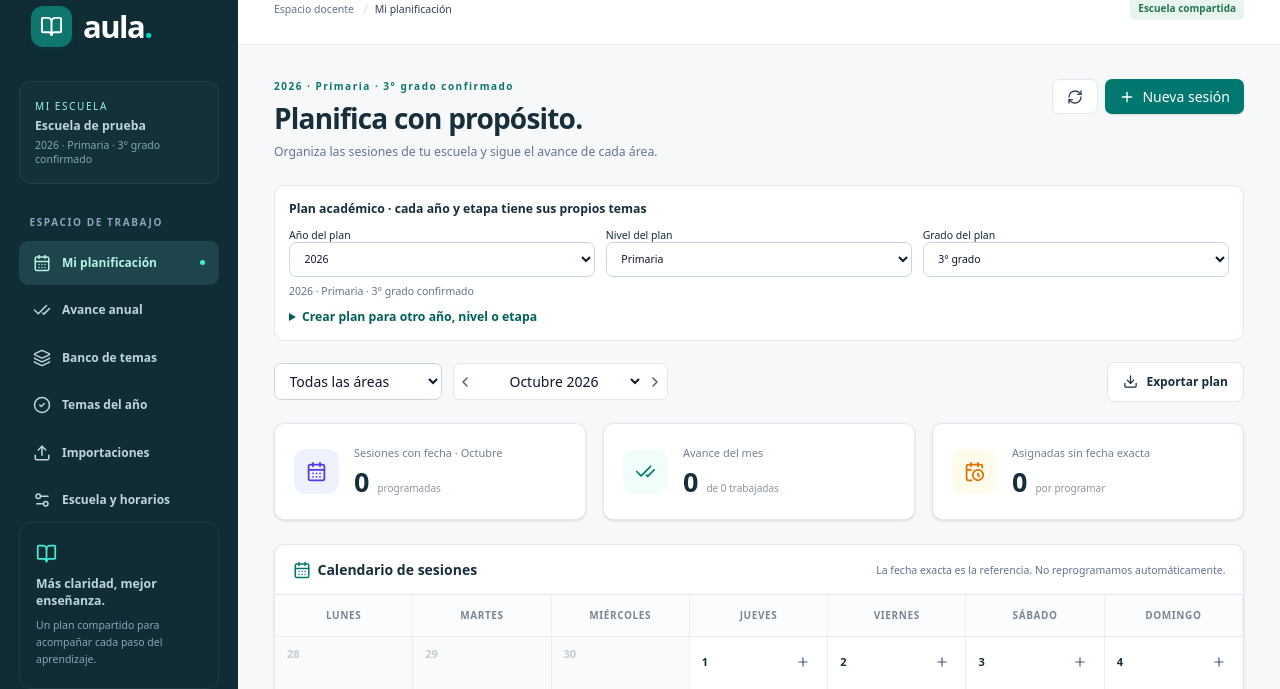
resets detail filters on context switch with reused IDs and rejects a late old catalog
Click the button "Avance anual" at (119, 310), box [19,288,219,332]
(page scrolled)
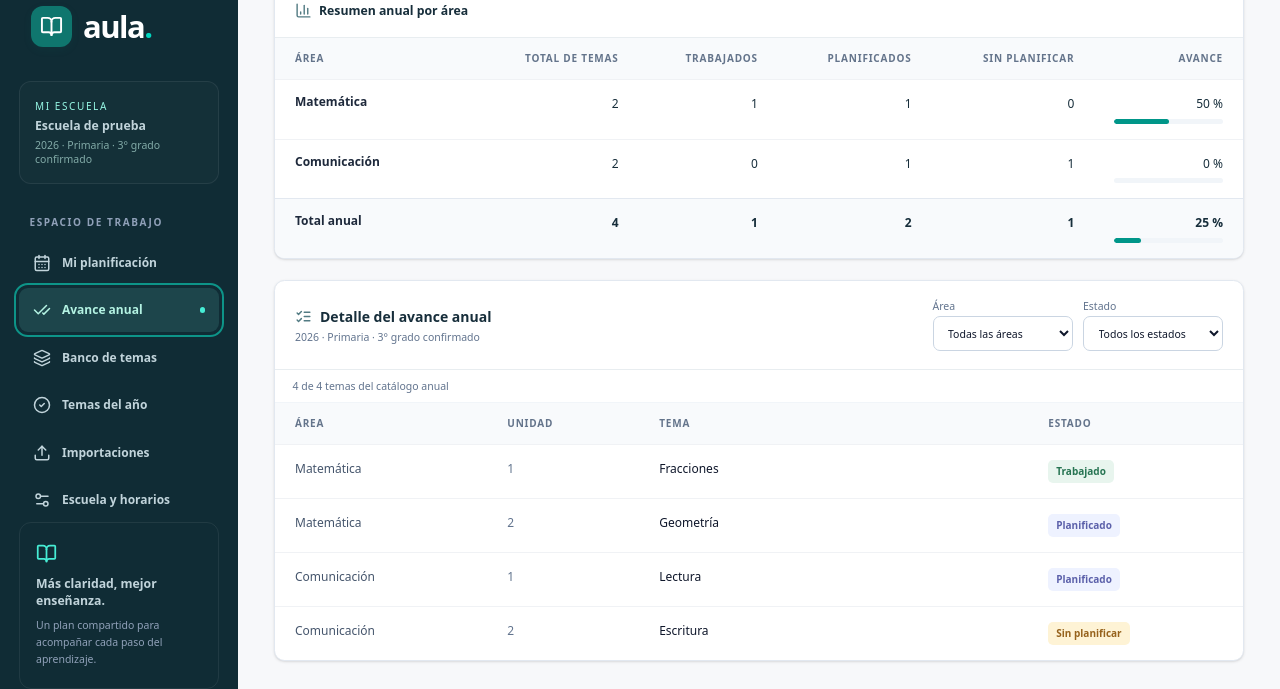
Select "Matemática" in the dropdown labelled "Área" at (1002, 334), box [932,316,1072,352]
(page scrolled)
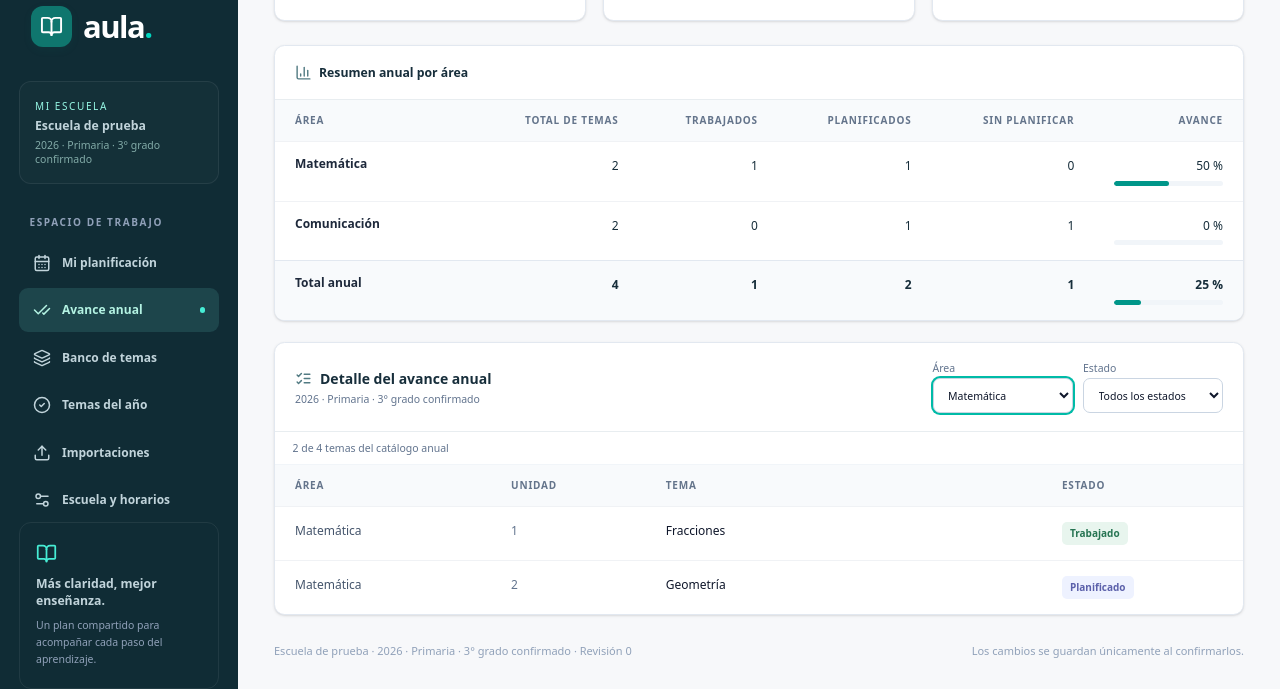
Select "Trabajado" in the dropdown labelled "Estado" at (1153, 396), box [1083,378,1223,414]
(page scrolled)
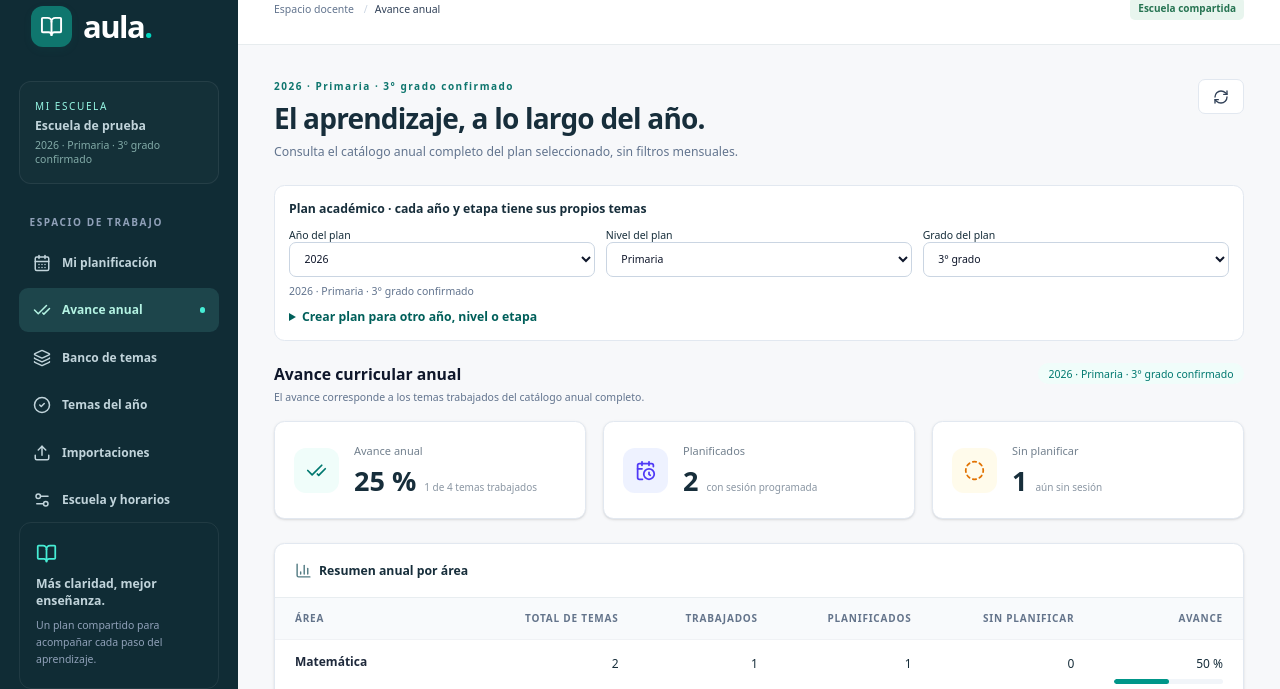
Click the button named "Recargar planificación" at (1221, 96), box [1198,79,1244,114]
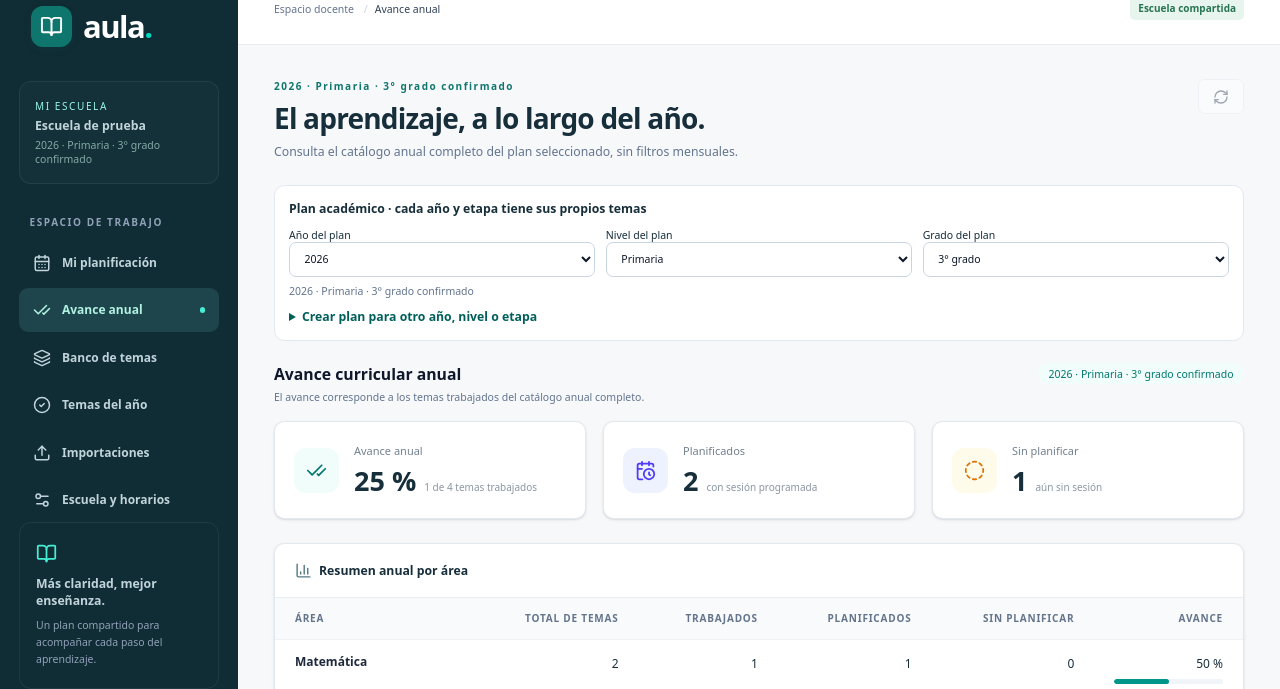
Select "2027" in the dropdown labelled "Año del plan" at (442, 259), box [289,242,595,277]
(page scrolled)
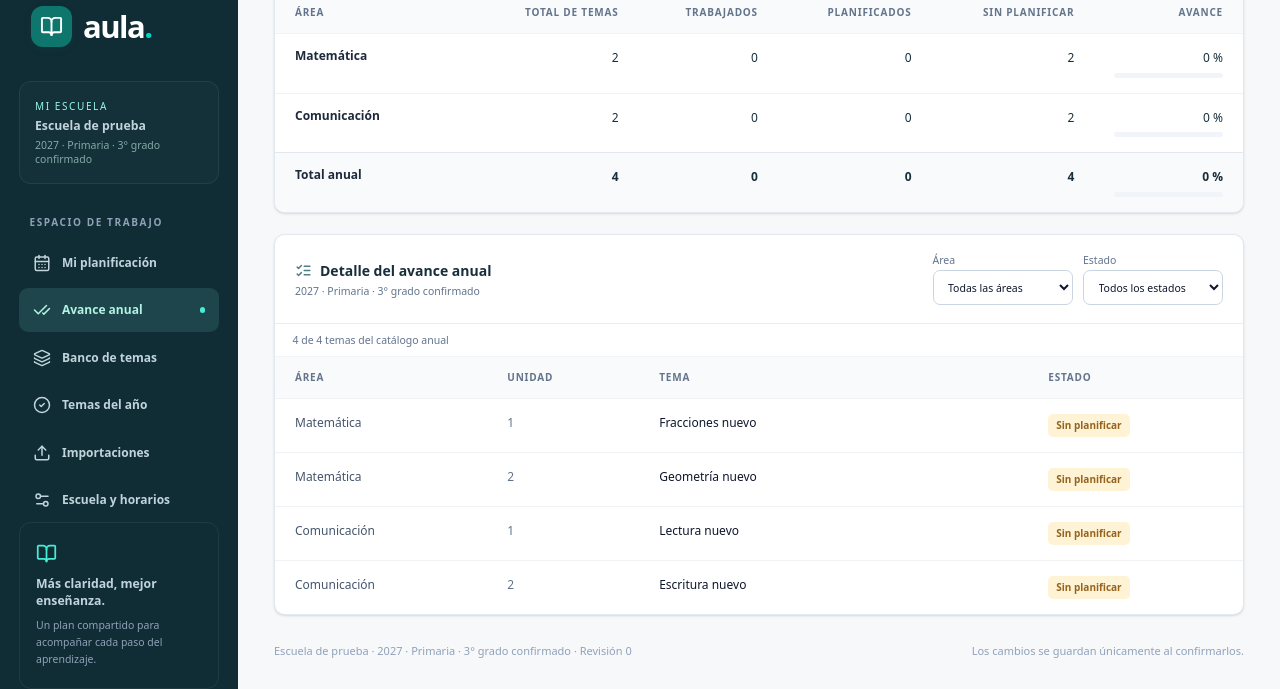
Expected: the text "Escritura nuevo" is shown, [639,560,1028,614]
Expected: the dropdown labelled "Área" shows "Todas las áreas", [932,270,1072,306]
Expected: the dropdown labelled "Estado" shows "Todos los estados", [1083,270,1223,306]
